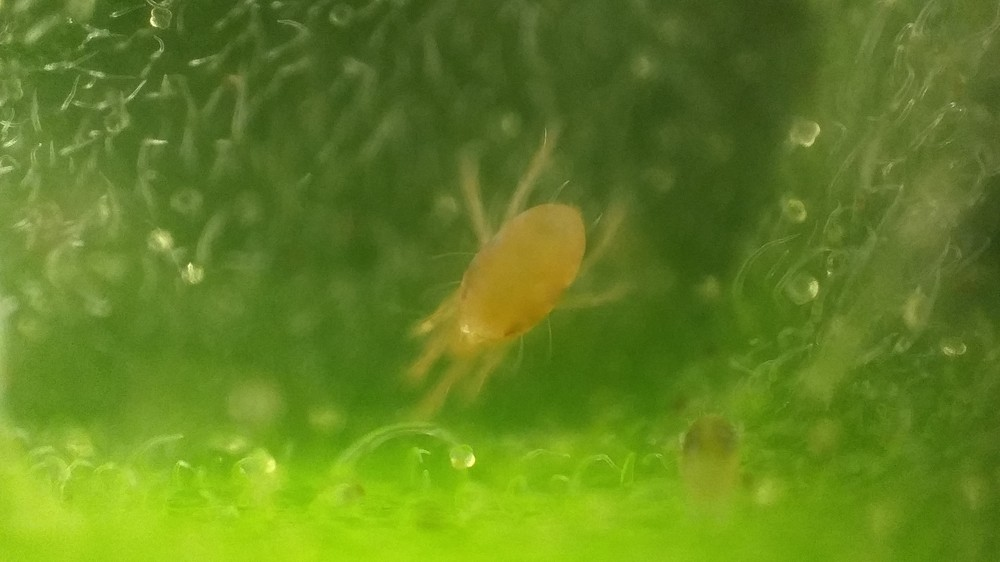Aracnido Rojo: (390, 137, 664, 431)
